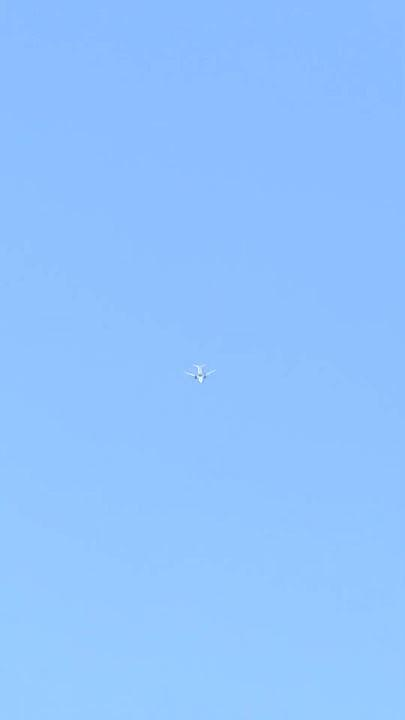Plane: (183, 352, 221, 394)
